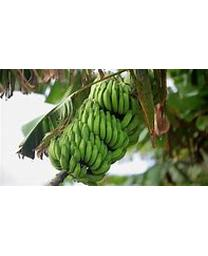banana: (53, 81, 138, 183)
